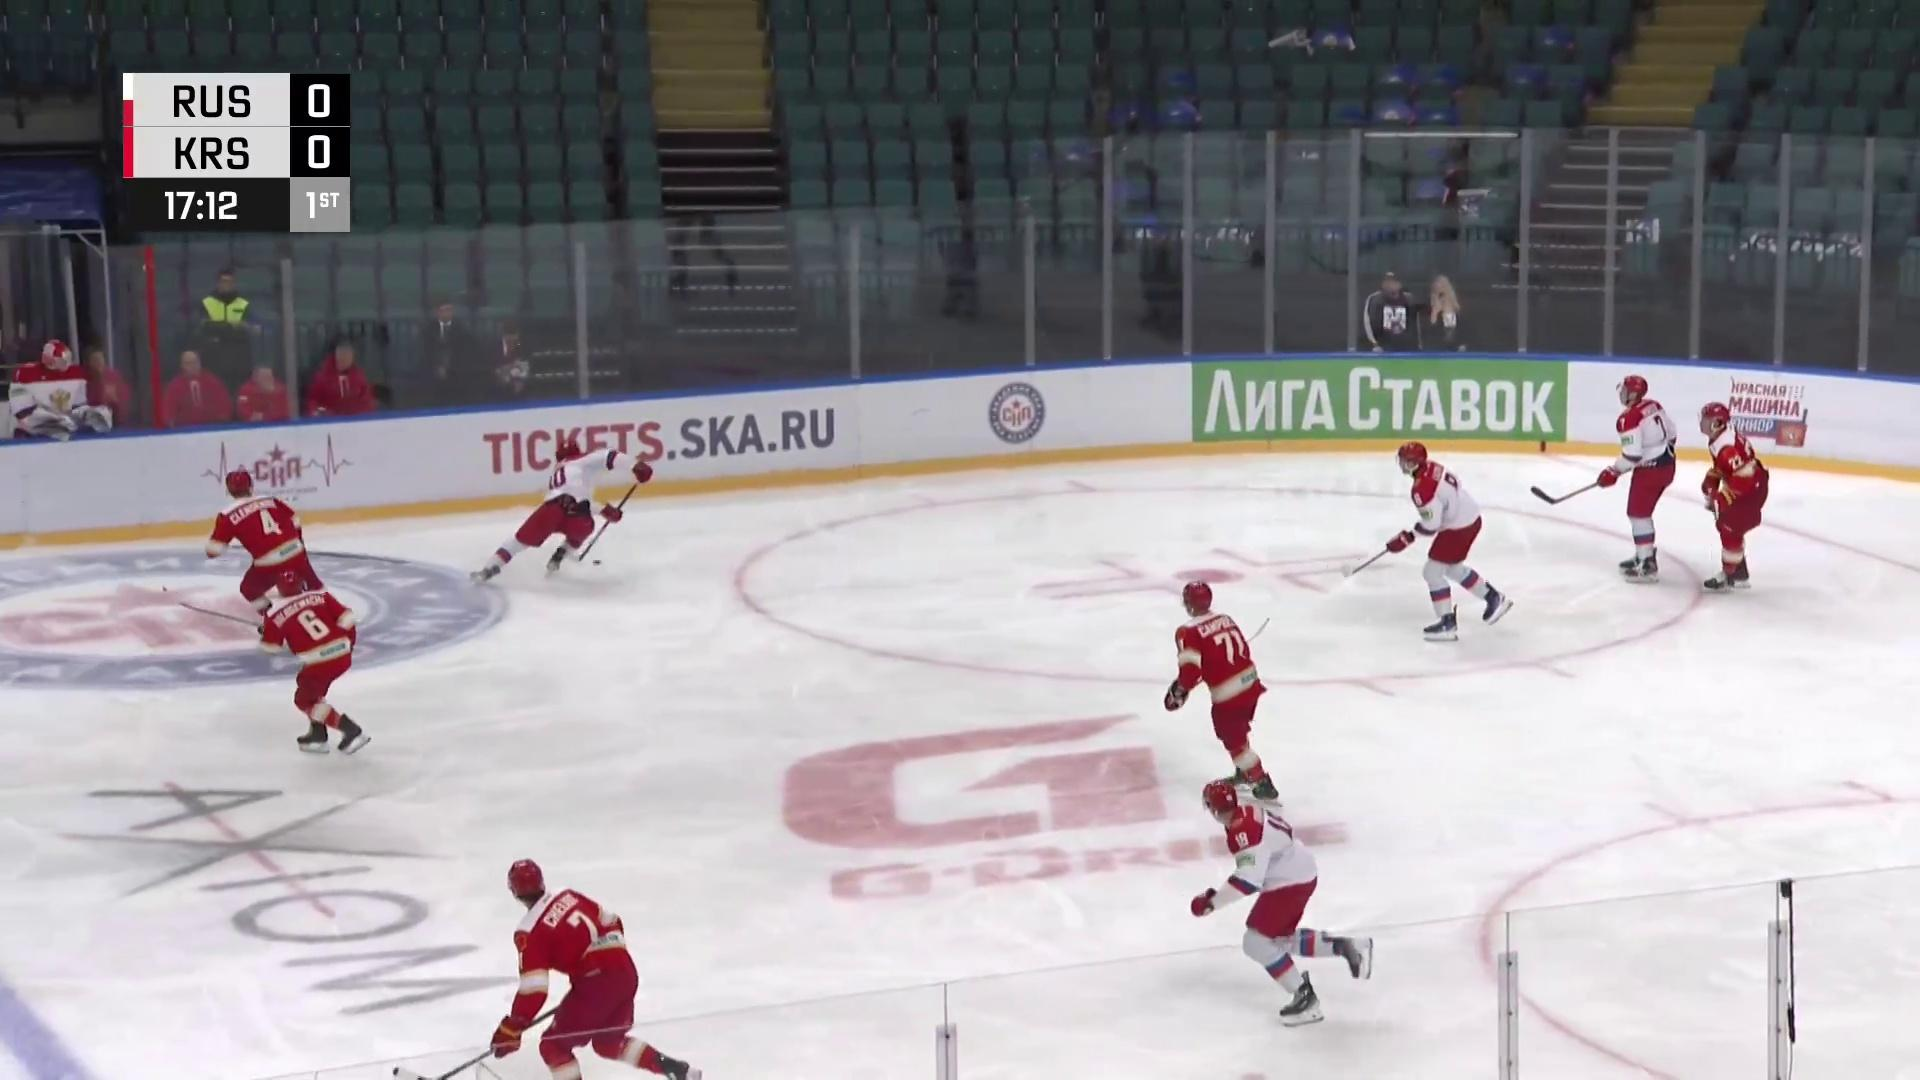ball: (589, 556, 603, 567)
